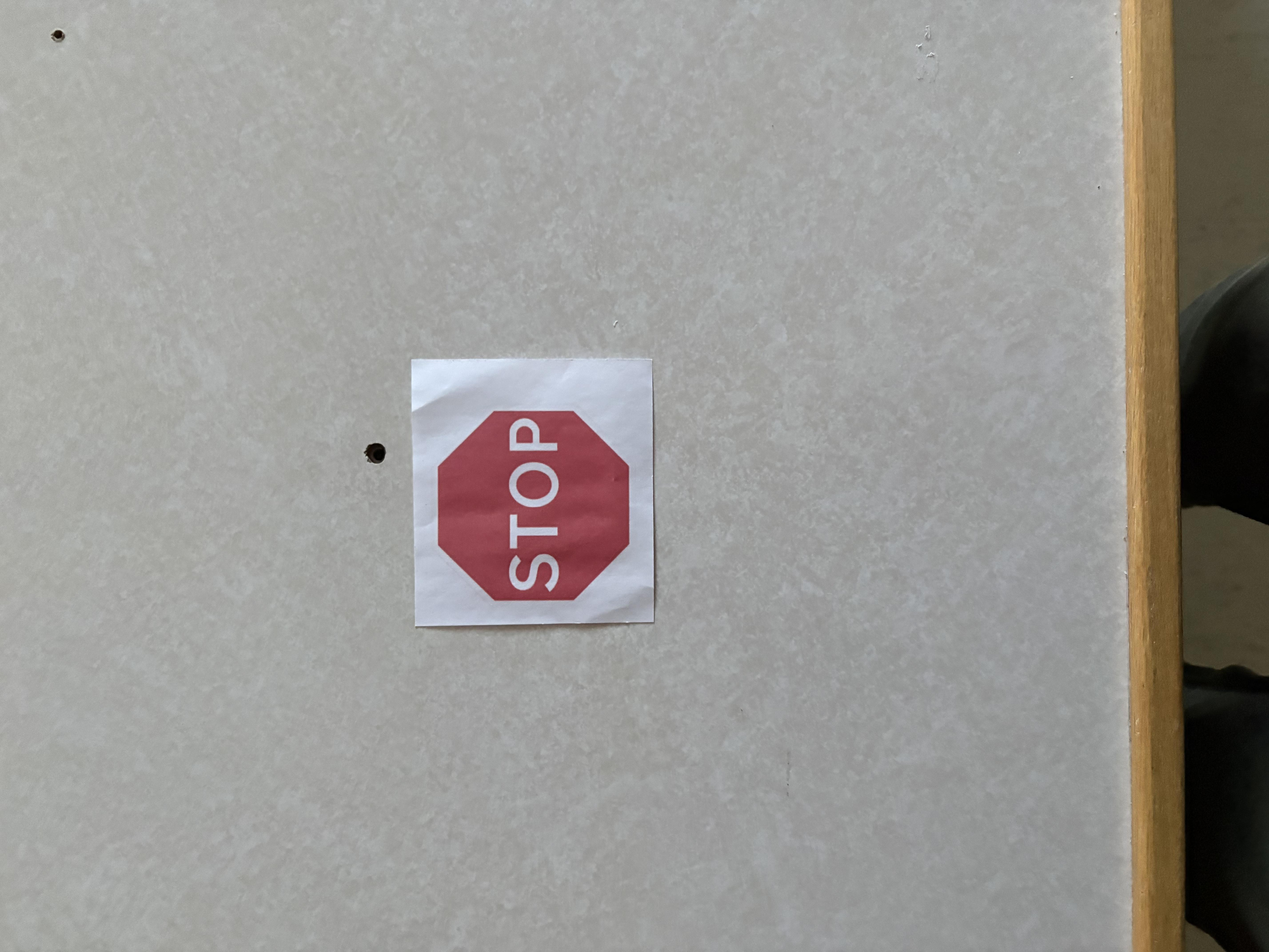Stop: (415, 364, 654, 623)
